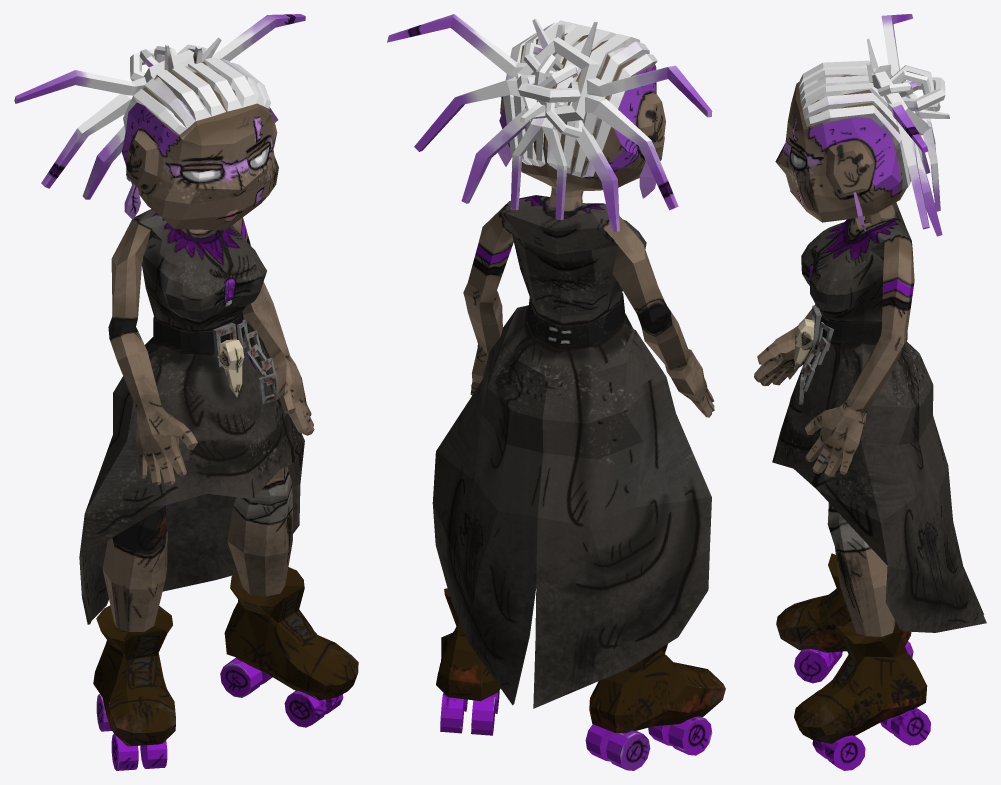
The model's file is bruja_000041.obj.
3 renders of one model, left to right at view 1: azimuth 30°, elevation 25°; view 2: azimuth 150°, elevation 25°; view 3: azimuth 270°, elevation 25°, orthographic. The views are drawn at different scales.
Parts seen in each view (by area): view 1: Bruja_Plane.001; view 2: Bruja_Plane.001; view 3: Bruja_Plane.001.
Boxes of the visible parts, box(x1,y1,x2,y2) form: Bruja_Plane.001: box(14, 14, 358, 770); Bruja_Plane.001: box(387, 14, 725, 770); Bruja_Plane.001: box(754, 14, 986, 770).
Bounding box in the file's own units: 7.47 × 16.62 × 5.29.
